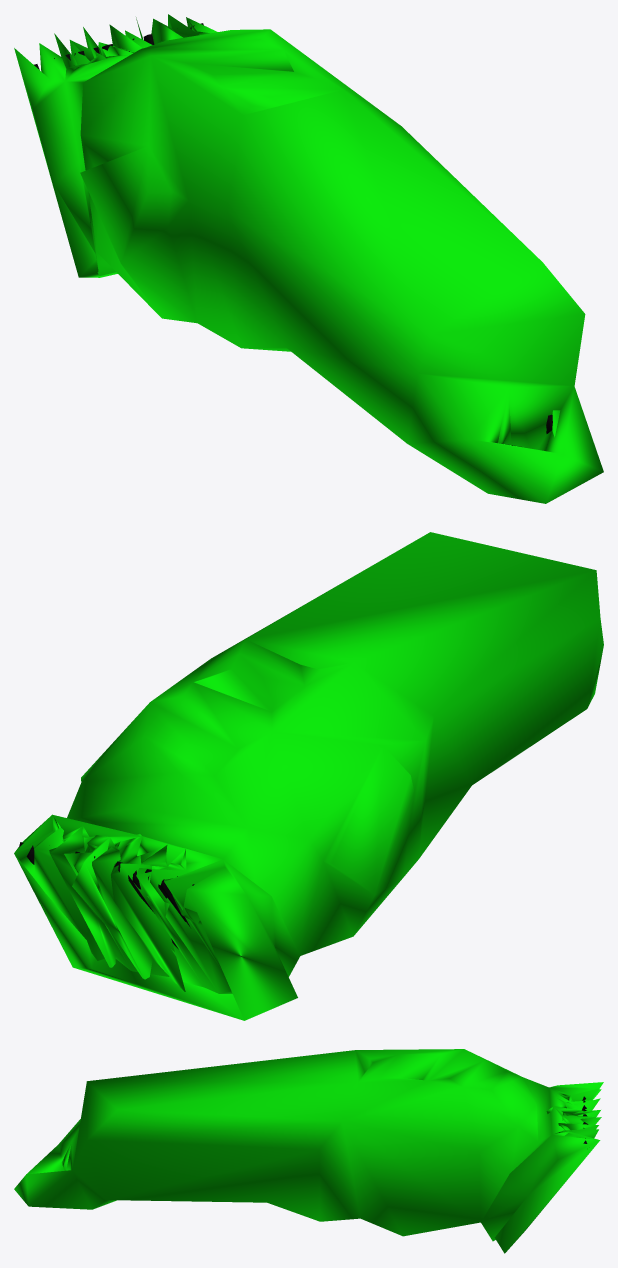
The model's file is wbready-shaver.fbx.
The picture shows the model from 3 angles, top to bottom: view 1: azimuth 30°, elevation 25°; view 2: azimuth 150°, elevation 25°; view 3: azimuth 270°, elevation 25°; orthographic projection. The views are drawn at different scales.
Visible parts, largest first — view 1: UTM_firegeo; view 2: UTM_firegeo, defaultobject_LOD0; view 3: UTM_firegeo.
Part boxes in pixels (x1,y1,x2,y2): UTM_firegeo: [14, 14, 603, 503]; UTM_firegeo: [14, 532, 603, 1020]; defaultobject_LOD0: [19, 842, 194, 949]; UTM_firegeo: [14, 1049, 603, 1253].
Size of what is drawn, in the model's own units: 10.68 by 10.56 by 35.56.
